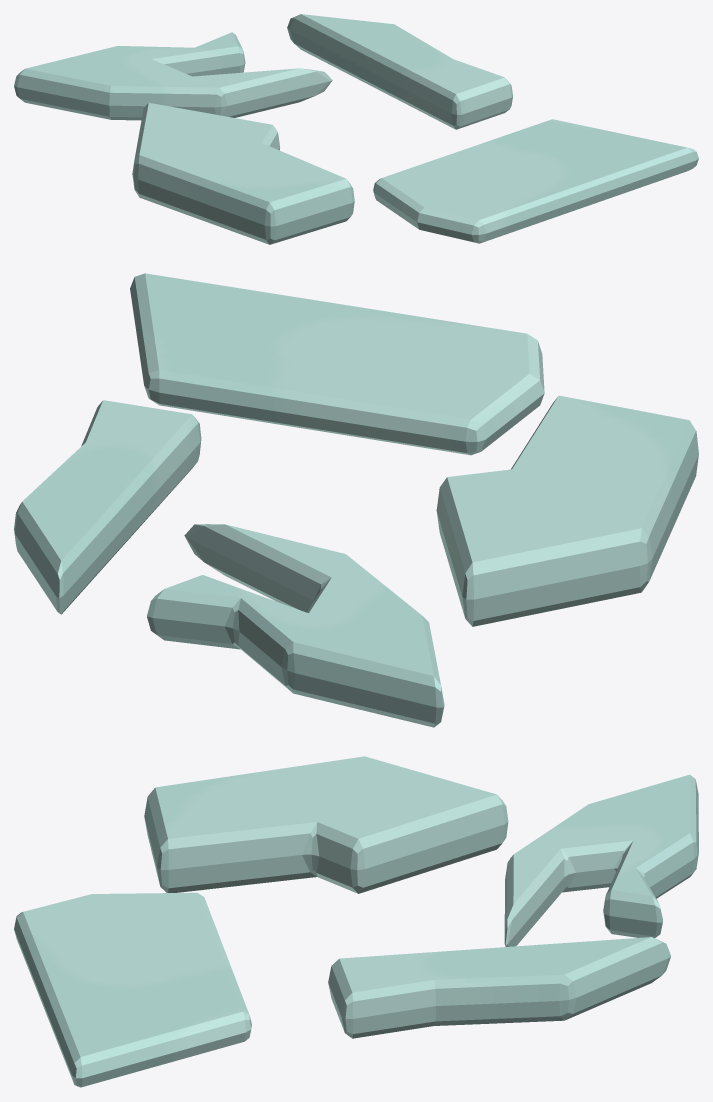
Rendered from Mod_Glassbreak_03.fbx.
3 renders of one model, top to bottom at view 1: azimuth 30°, elevation 25°; view 2: azimuth 150°, elevation 25°; view 3: azimuth 270°, elevation 25°, orthographic. The views are drawn at different scales.
Visible parts, largest first — view 1: Mod_Glassbreak_03; view 2: Mod_Glassbreak_03; view 3: Mod_Glassbreak_03.
Boxes of the visible parts, x1,y1,x2,y2 form: Mod_Glassbreak_03: [14, 14, 698, 244]; Mod_Glassbreak_03: [14, 273, 698, 727]; Mod_Glassbreak_03: [14, 756, 698, 1087].
Size of the model in its own units: 75.67 by 6.81 by 76.75.
